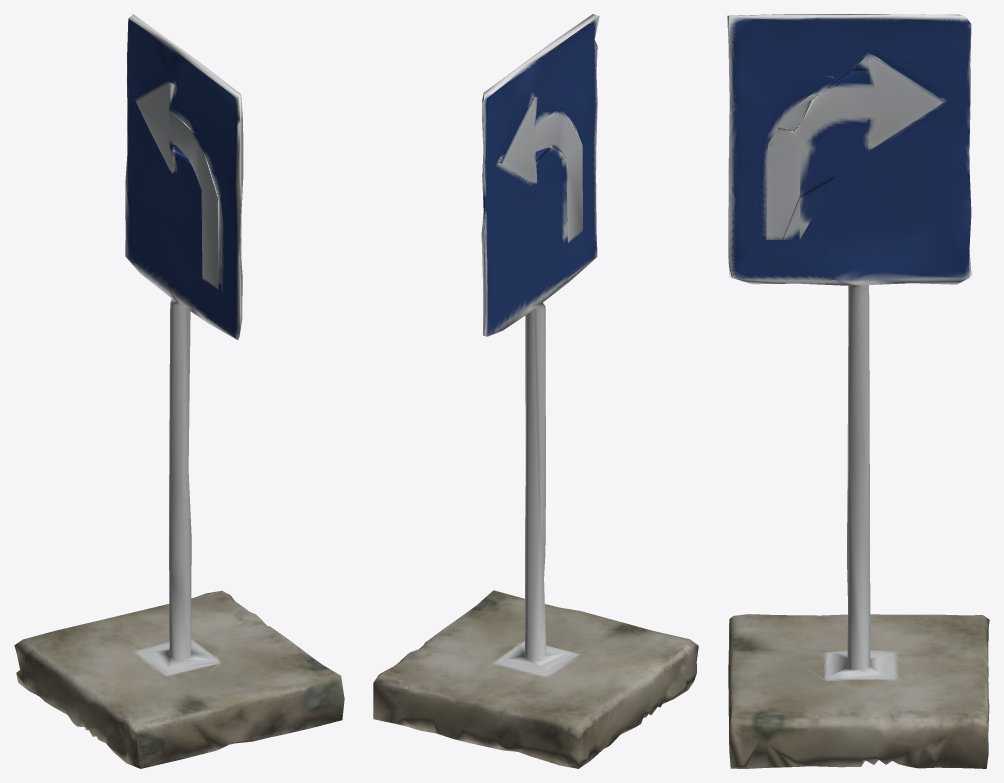
The model's file is rambu_kanan.glb.
3 views of the same model, side by side, from view 1: azimuth 30°, elevation 25°; view 2: azimuth 150°, elevation 25°; view 3: azimuth 270°, elevation 25° (orthographic). The views are drawn at different scales.
Visible parts, largest first — view 1: tripo_node_2cee127a; view 2: tripo_node_2cee127a; view 3: tripo_node_2cee127a.
Boxes of the visible parts, bbox=[...] form: tripo_node_2cee127a: bbox=[14, 14, 344, 768]; tripo_node_2cee127a: bbox=[373, 14, 698, 768]; tripo_node_2cee127a: bbox=[727, 14, 989, 768].
Size of the model in its own units: 34.11 by 99.89 by 33.89.
Materials: 1 (1 with a texture image).
